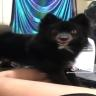dog: (0, 12, 92, 88)
